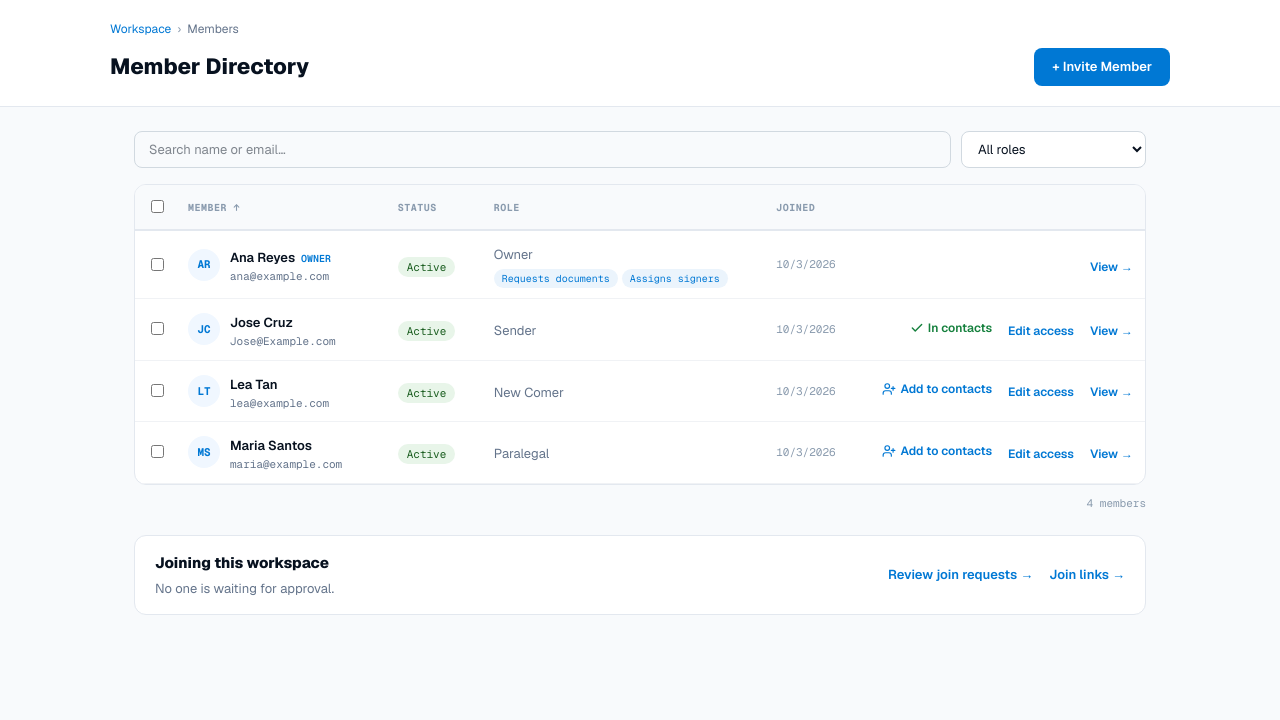
Scenario: Add workspace members to contacts › saves a personal contact with the member's details and the Internal tag, then shows In contacts
Click the button with aria-label "Add Maria Santos to contacts" at (937, 451), box [874,438,1000,464]
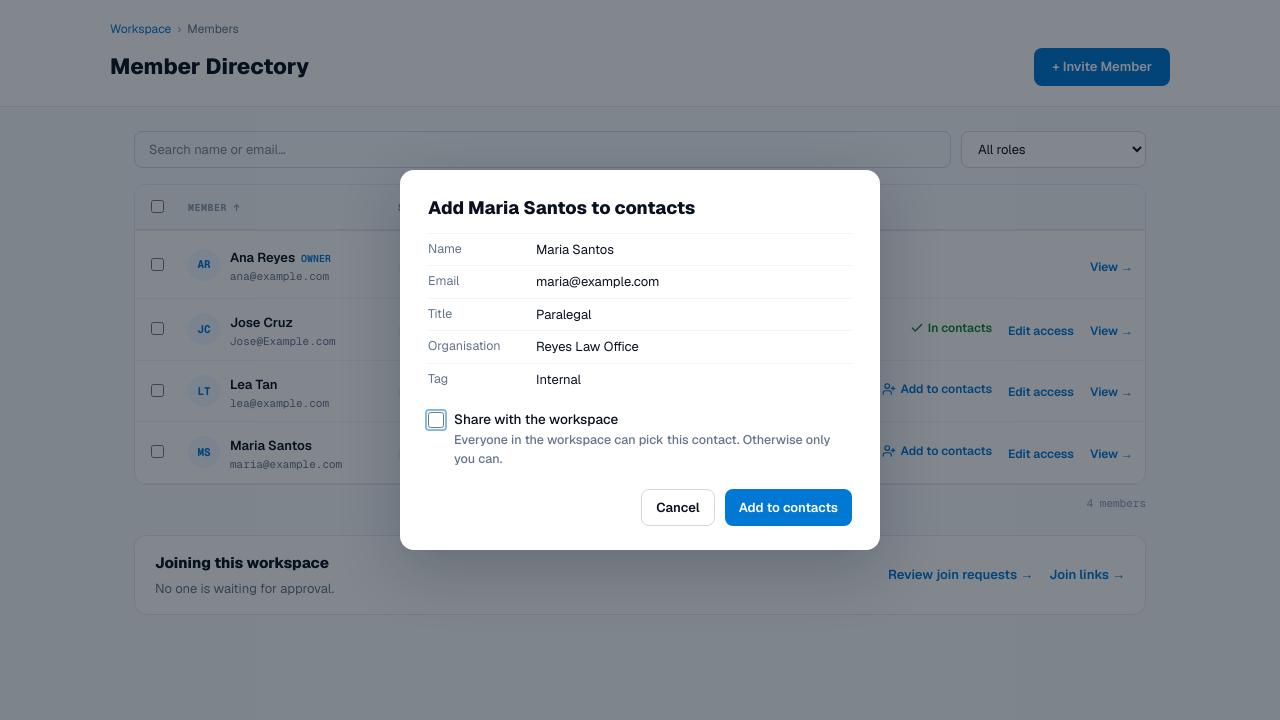
expect the dialog "Add Maria Santos to contacts" shows "maria@example.com": met, box [536,273,660,290]
expect the dialog "Add Maria Santos to contacts" shows "Paralegal": met, box [536,306,592,323]
expect the dialog "Add Maria Santos to contacts" shows "Reyes Law Office": met, box [536,338,639,355]
Click the button "Add to contacts" at (788, 508), box [725,489,852,526]
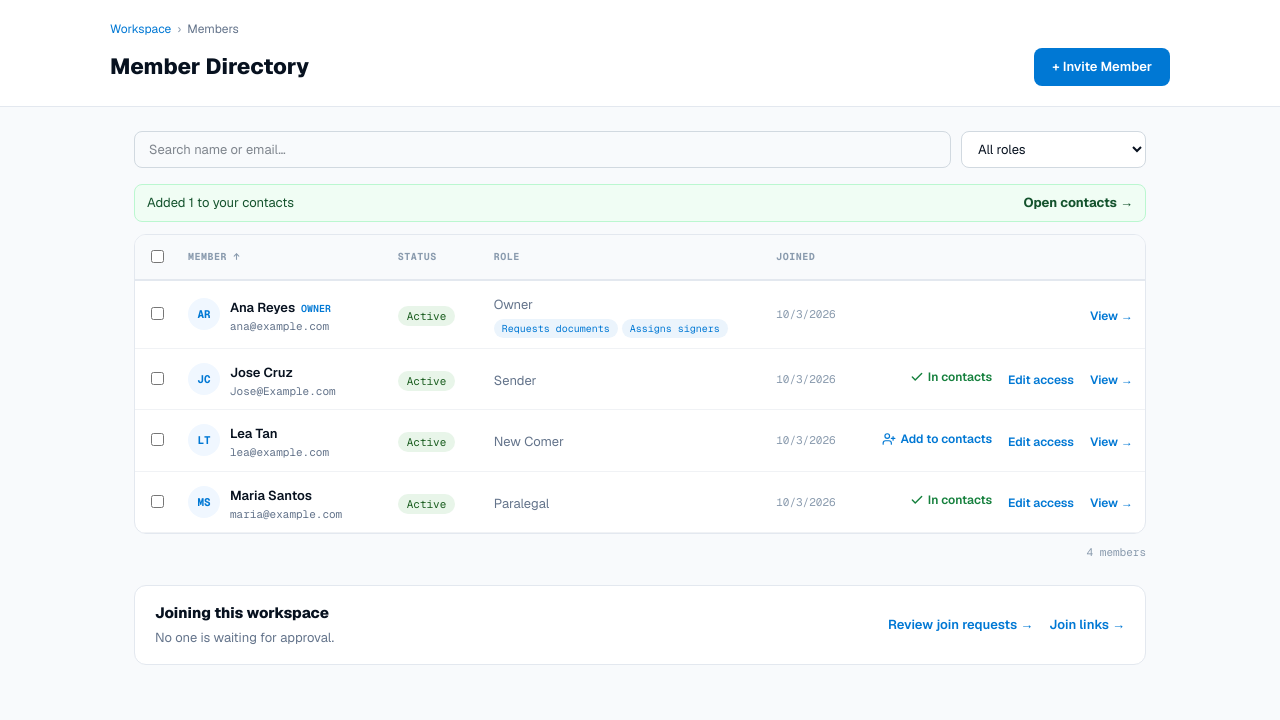
expect the message with test id "contacts-notice" shows "Added 1 to your contacts": met, box [147,194,294,211]
expect the link with test id "in-contacts-m_maria" is shown: met, box [910,492,992,508]
